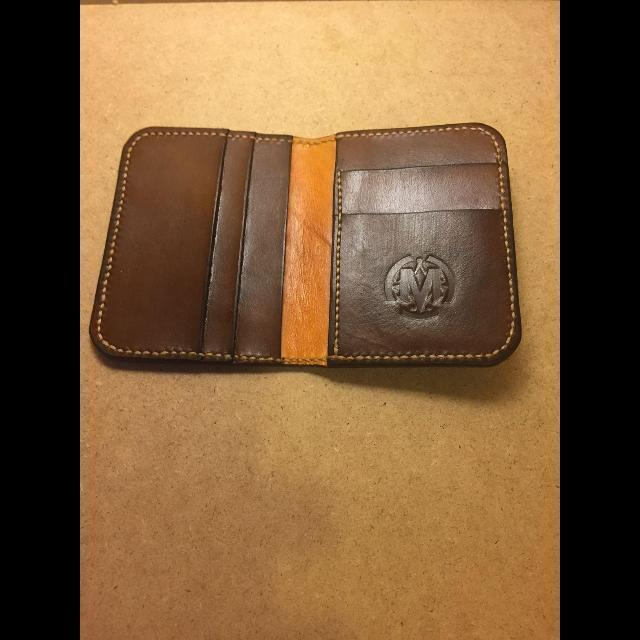wallet: (91, 123, 521, 369)
